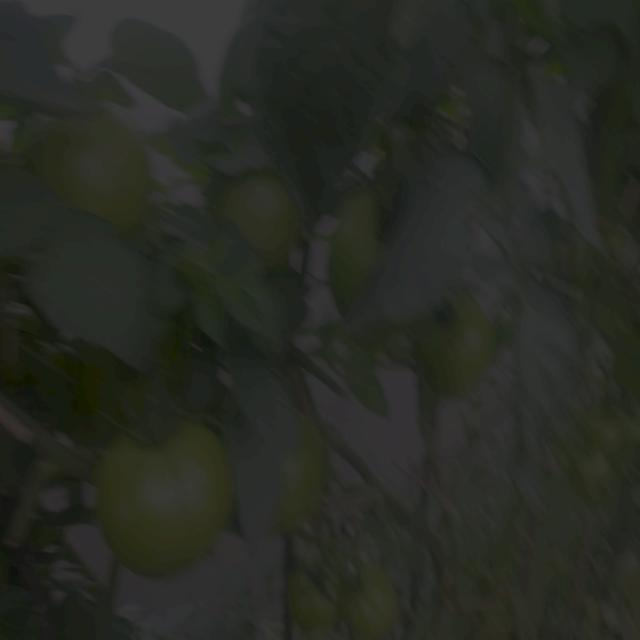tomato: (97, 425, 225, 579), (25, 113, 141, 249), (242, 417, 332, 531), (330, 175, 395, 318), (220, 178, 303, 275), (428, 298, 497, 402), (289, 560, 339, 635), (345, 571, 394, 638), (590, 410, 626, 454), (580, 458, 615, 482), (628, 420, 640, 446)
